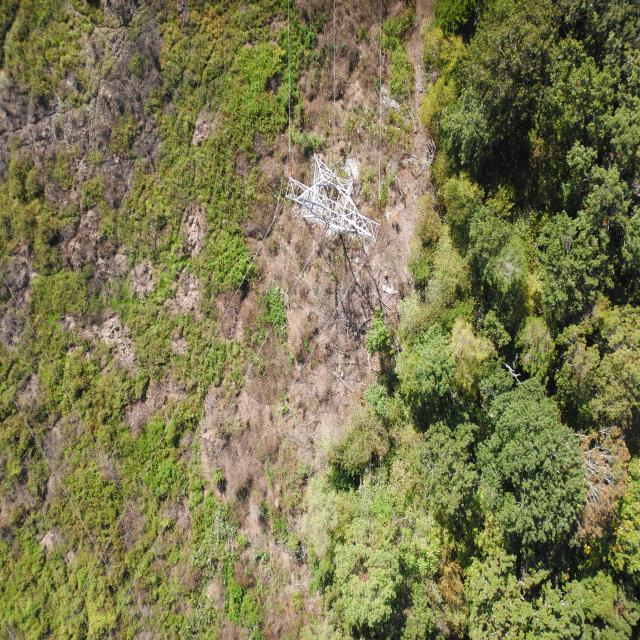Area of Interest: (309, 13, 630, 633)
